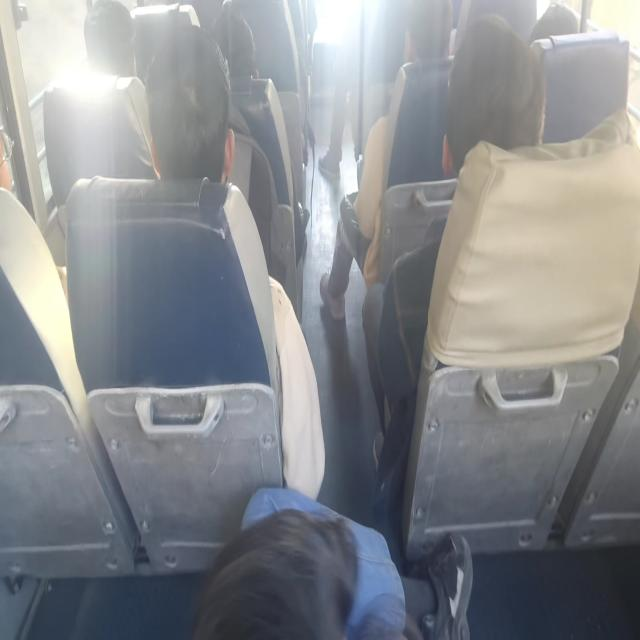person: (370, 12, 547, 560), (142, 20, 326, 501), (319, 0, 453, 320), (239, 485, 407, 639), (43, 0, 157, 211), (194, 506, 358, 639), (317, 0, 407, 179), (144, 23, 235, 184), (83, 0, 137, 78)
